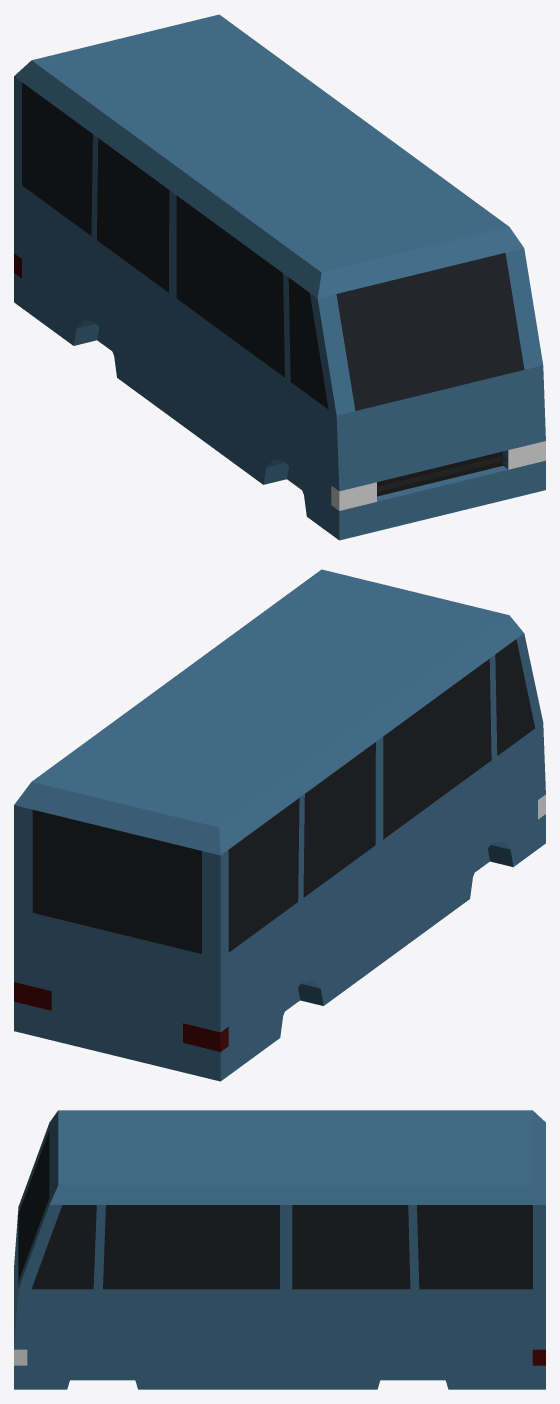
The model's file is bus.glb.
3 renders of one model, top to bottom at view 1: azimuth 30°, elevation 25°; view 2: azimuth 150°, elevation 25°; view 3: azimuth 270°, elevation 25°, orthographic. The views are drawn at different scales.
Visible parts, largest first — view 1: Plane; view 2: Plane; view 3: Plane.
Part boxes in pixels (x1,y1,x2,y2): Plane: (14, 14, 545, 540); Plane: (14, 569, 545, 1081); Plane: (14, 1110, 545, 1389).
Size of the model in its own units: 2.2 by 2.5 by 6.
